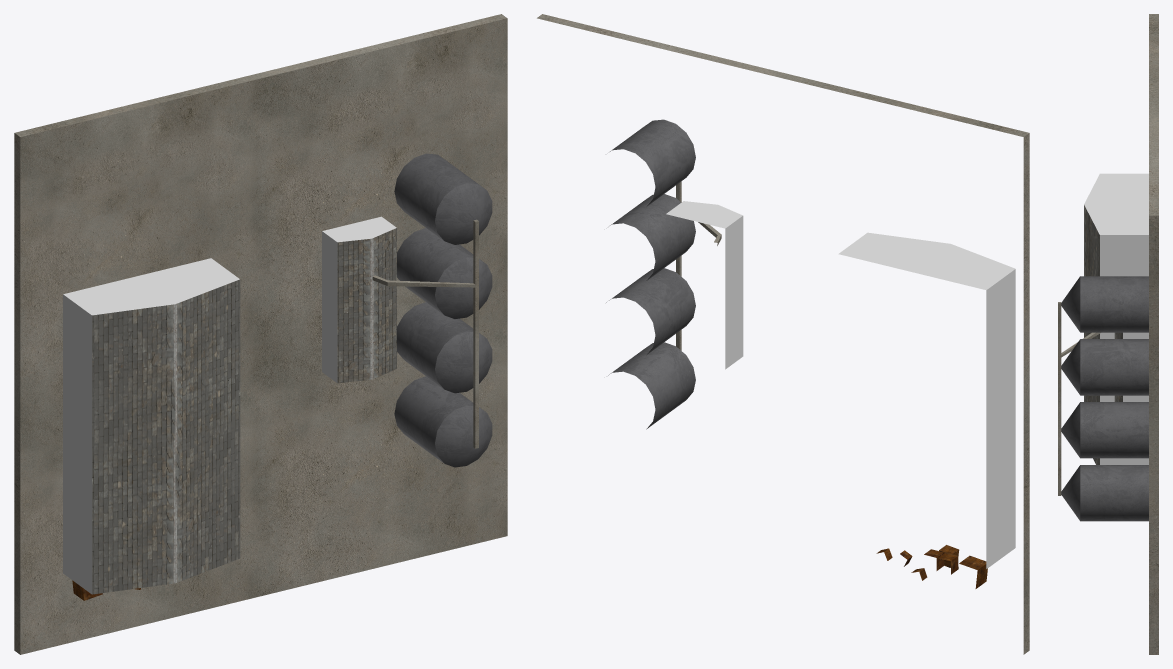
File: flour_factory.glb
3 views of the same model, side by side, from view 1: azimuth 30°, elevation 25°; view 2: azimuth 150°, elevation 25°; view 3: azimuth 270°, elevation 25° (orthographic). The views are drawn at different scales.
Visible parts, largest first — view 1: Cube, Cube.001; view 2: Cube, Cube.001; view 3: Cube.001, Cube.
Part boxes in pixels (x1,y1,x2,y2): Cube: [14, 14, 507, 654]; Cube.001: [394, 153, 492, 467]; Cube: [537, 14, 1029, 654]; Cube.001: [606, 119, 695, 429]; Cube.001: [1061, 276, 1148, 521]; Cube: [1058, 14, 1158, 654].
Size of the model in its own units: 66.72 by 67.77 by 14.12.
5 materials, 4 textured.
